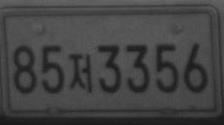3: (125, 44, 151, 92), (97, 44, 121, 93)
5: (40, 44, 64, 95), (155, 43, 179, 93)
6: (182, 43, 208, 93)
8: (12, 44, 37, 94)
저: (68, 53, 92, 93)
